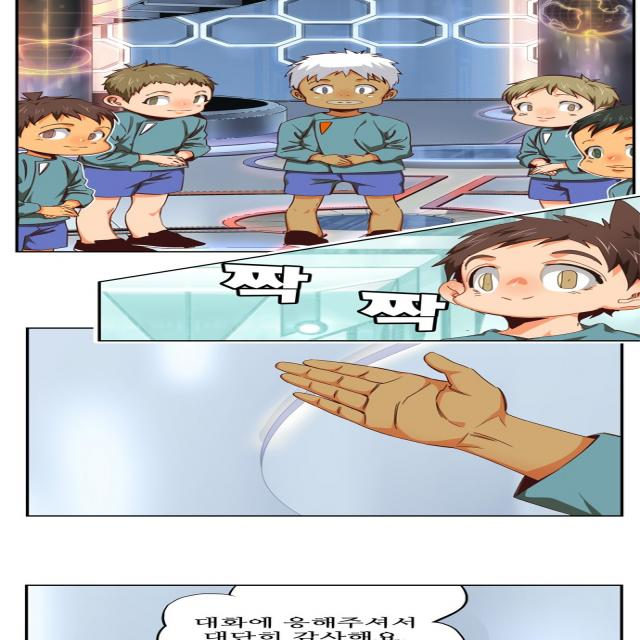Bubble: (149, 582, 469, 640)
